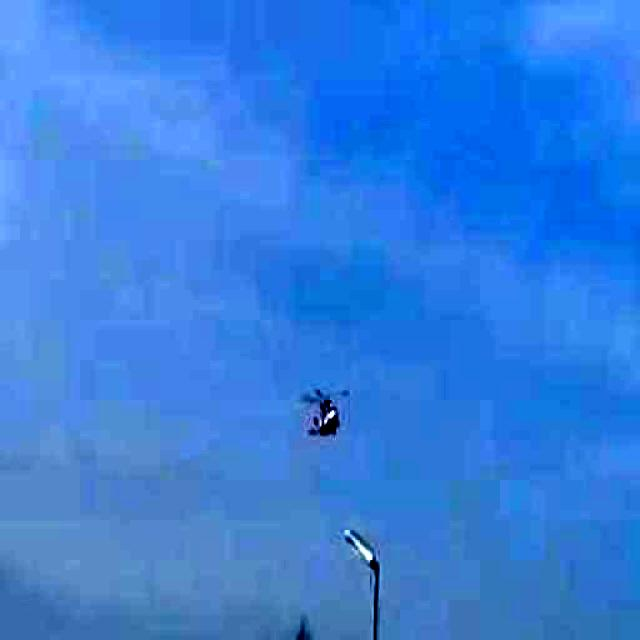drone: (285, 379, 362, 452)
